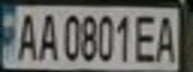0: (97, 11, 118, 63), (60, 10, 81, 62)
1: (112, 11, 136, 63)
8: (78, 10, 100, 62)
A: (151, 11, 181, 64), (12, 8, 39, 62), (33, 9, 60, 62)
E: (133, 10, 160, 63)
